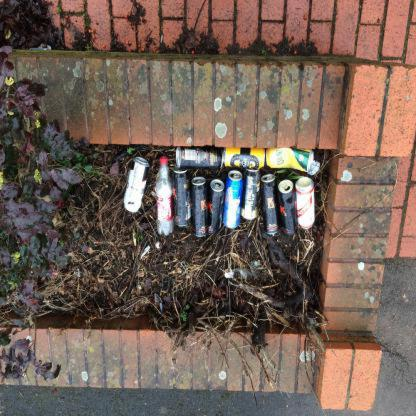Bottle: (160, 156, 168, 161)
Bottle cap: (156, 155, 174, 236)
Can: (123, 156, 149, 212), (176, 144, 224, 170), (266, 146, 314, 172), (171, 166, 191, 227), (260, 174, 280, 234), (223, 170, 243, 228), (277, 179, 297, 236), (190, 176, 208, 236), (295, 177, 315, 229), (240, 168, 260, 220), (207, 180, 225, 234), (223, 146, 265, 168)
Pop tab: (282, 181, 288, 189), (233, 173, 239, 177), (267, 175, 272, 179), (214, 184, 218, 188), (197, 180, 201, 182)
Unlabeled litter: (308, 160, 320, 175), (250, 261, 260, 277), (236, 270, 252, 279), (140, 246, 150, 260), (225, 272, 235, 278), (160, 34, 162, 44)
